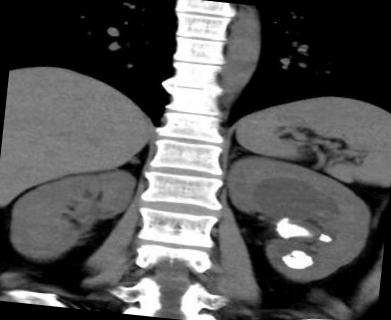Tas_Var: (273, 214, 311, 244), (278, 252, 316, 271), (289, 248, 308, 259), (317, 232, 334, 244)
